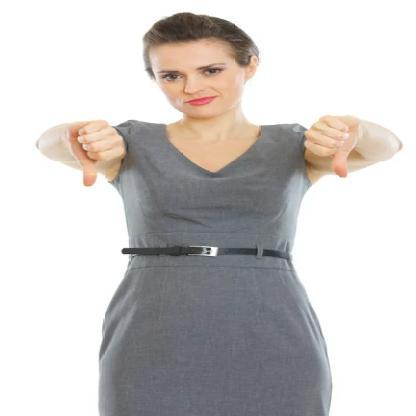thumb_down: (62, 115, 126, 188), (299, 113, 363, 180)
